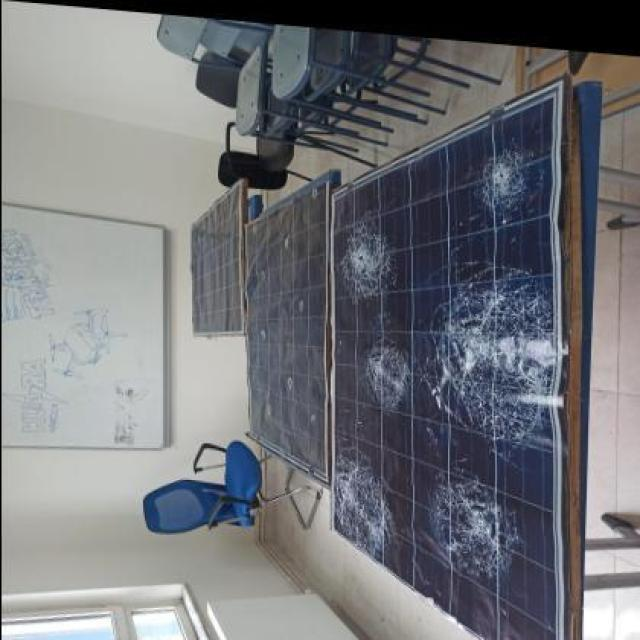cracked: (332, 82, 567, 640)
soiled: (230, 169, 329, 488)
